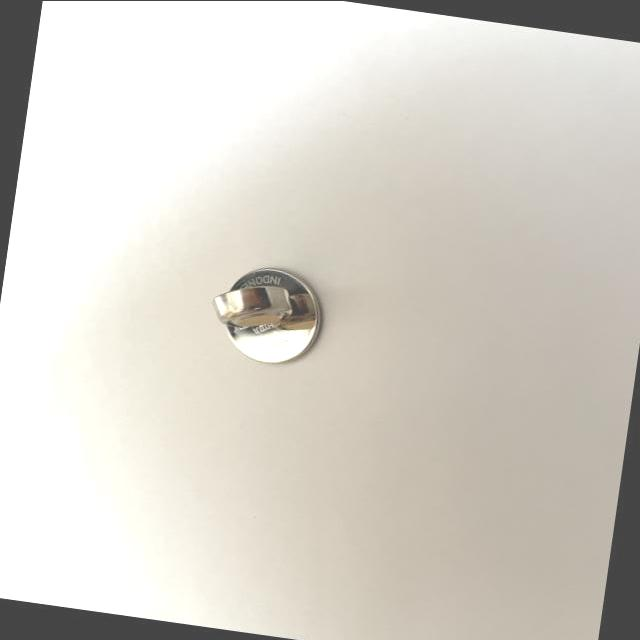COIN: (212, 262, 326, 371), (210, 277, 296, 332)
